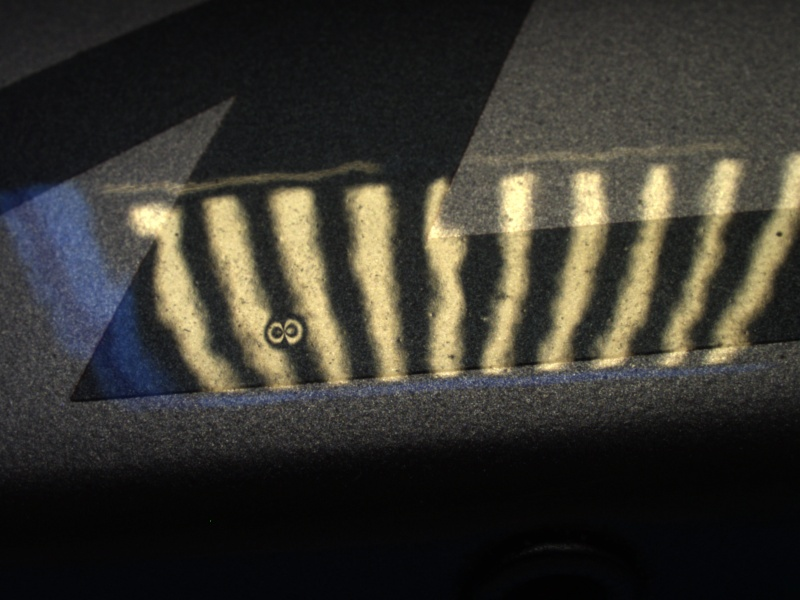bad: (258, 308, 314, 355)
